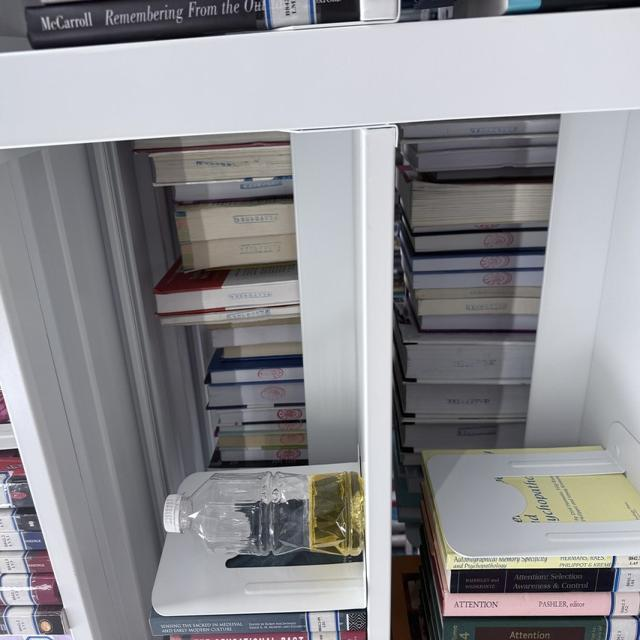low: (164, 471, 363, 556)
